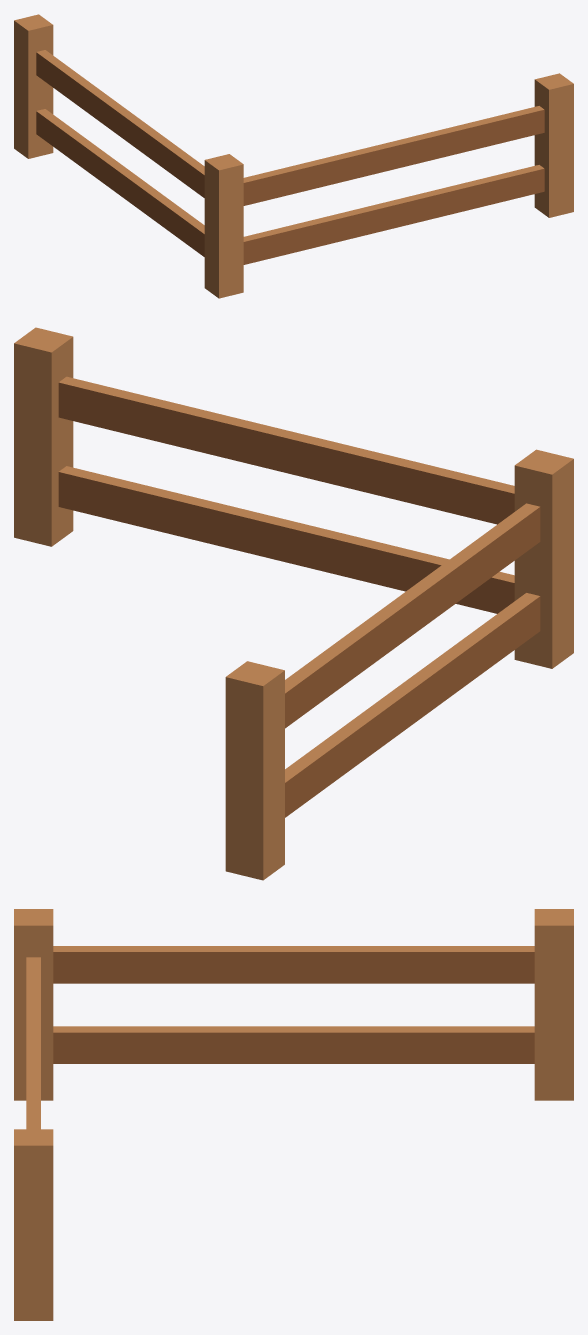
The model's file is fence-corner.glb.
3 views of the same model, one above another, from view 1: azimuth 30°, elevation 25°; view 2: azimuth 150°, elevation 25°; view 3: azimuth 270°, elevation 25° (orthographic). The views are drawn at different scales.
Parts seen in each view (by area): view 1: fence_corner; view 2: fence_corner; view 3: fence_corner.
Part boxes in pixels (x1,y1,x2,y2): fence_corner: (14,14,573,298); fence_corner: (14,327,573,880); fence_corner: (14,909,573,1320).
Bounding box in the file's own units: 4 × 1.38 × 4.
